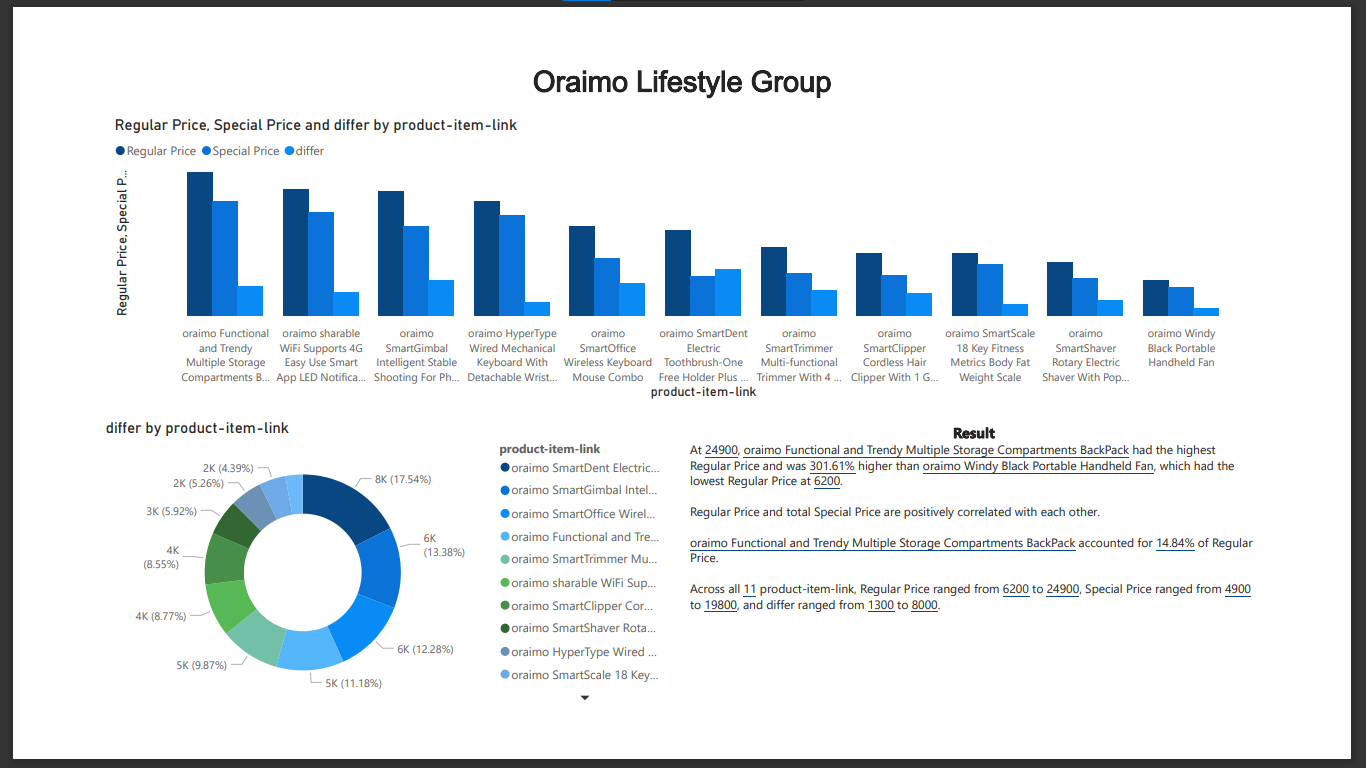

What the dashboard file says about the page in this screenshot:
{"tool":"powerbi","page":{"name":"Page 4","canvas":[1280,720],"ordinal":3},"visuals":[{"type":"textbox","box":[9.9,0,1269.5,64.8],"z":0},{"type":"clusteredColumnChart","fields":{"Category":["Lifestyle.product-item-link"],"Y":["Sum(Lifestyle.Regular Price)","Sum(Lifestyle.Special Price)","Sum(Lifestyle.differ)"]},"box":[9.9,64.8,1269.5,317],"z":1},{"type":"donutChart","fields":{"Category":["Lifestyle.product-item-link"],"Y":["Sum(Lifestyle.differ)"]},"box":[0,398.7,629.8,321.3],"z":2},{"type":"textbox","box":[643.9,398.7,635.5,321.3],"z":3}]}

Visuals, with their boxes in screenshot pixels (x1, y1, x2, y2), scaled from the page's 1280x720 canvas onto the 1366x768 screenshot:
textbox: <region>11, 0, 1365, 69</region>
clusteredColumnChart - Lifestyle.product-item-link x Sum(Lifestyle.Regular Price): <region>11, 69, 1365, 407</region>
donutChart - Lifestyle.product-item-link x Sum(Lifestyle.differ): <region>0, 425, 672, 767</region>
textbox: <region>687, 425, 1365, 767</region>
